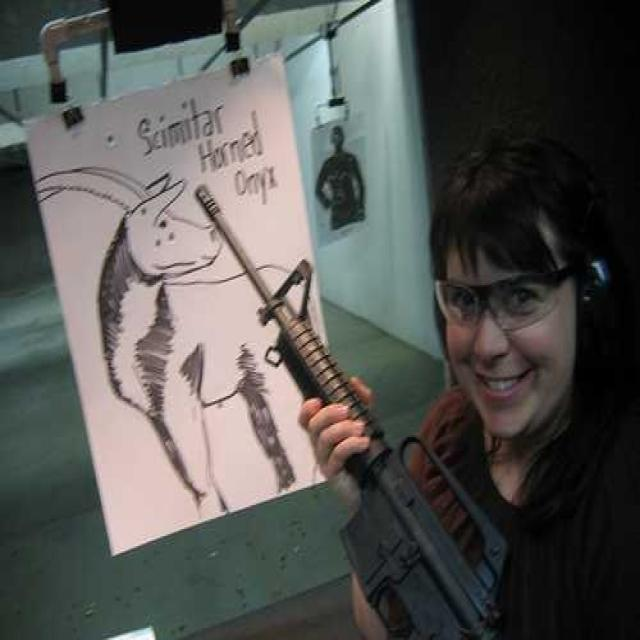Rifle: (183, 166, 510, 639)
